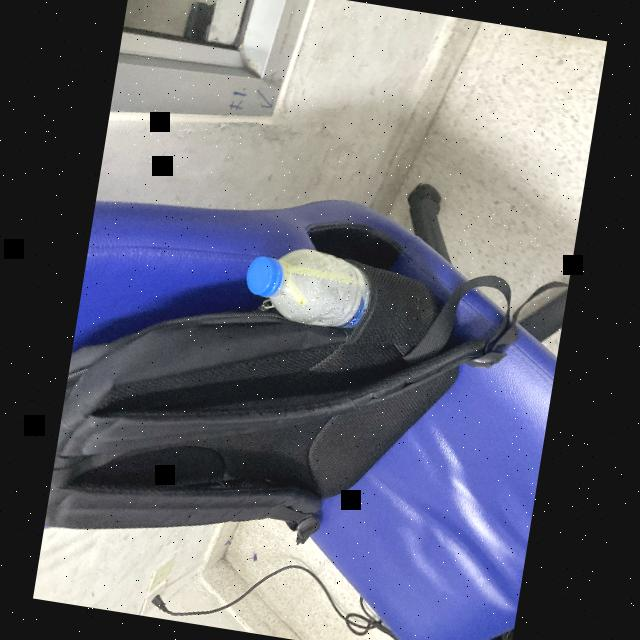plastic_bottle: (236, 238, 382, 338)
plastic_bottle_cap: (242, 252, 286, 299)
straw: (276, 260, 368, 314)
